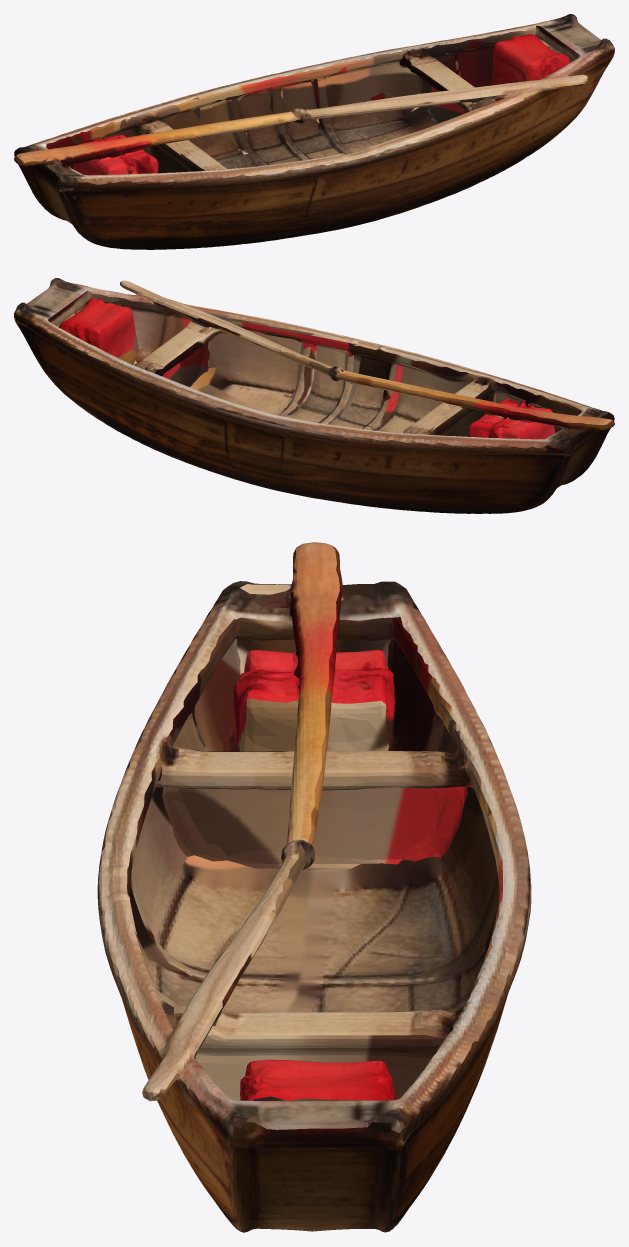
The model's file is traveler_env_coast_kudo_cargo_boat_00001_.glb.
3 renders of one model, top to bottom at view 1: azimuth 30°, elevation 25°; view 2: azimuth 150°, elevation 25°; view 3: azimuth 270°, elevation 25°, orthographic. The views are drawn at different scales.
Parts seen in each view (by area): view 1: temp_mesh.ply; view 2: temp_mesh.ply; view 3: temp_mesh.ply.
Boxes of the visible parts, bbox=[...] form: temp_mesh.ply: bbox=[14, 14, 614, 249]; temp_mesh.ply: bbox=[14, 278, 614, 513]; temp_mesh.ply: bbox=[97, 542, 531, 1232].
Bounding box in the file's own units: 1.97 × 0.391 × 0.6416.
1 material, 1 textured.
